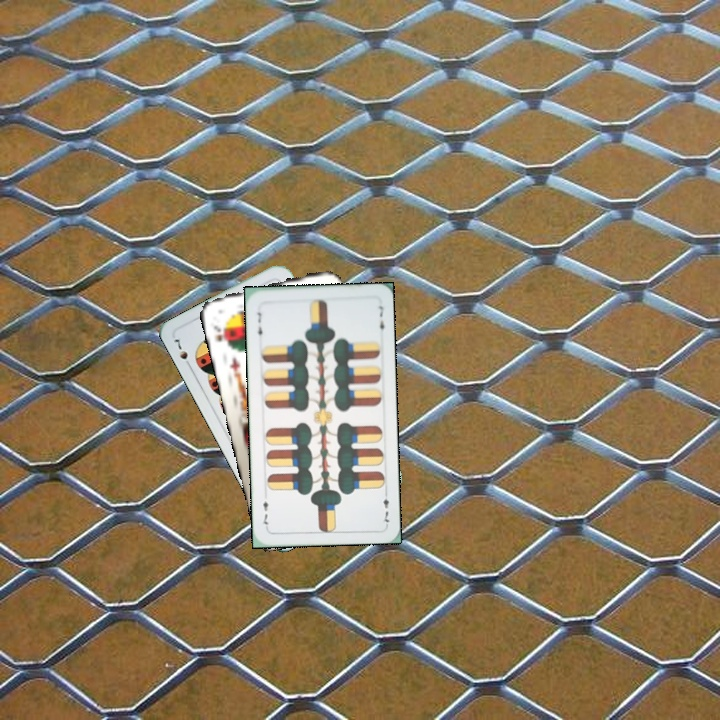E7: (379, 486, 391, 527), (253, 308, 265, 342)
S7: (170, 335, 195, 371)
SK: (209, 321, 232, 350)
